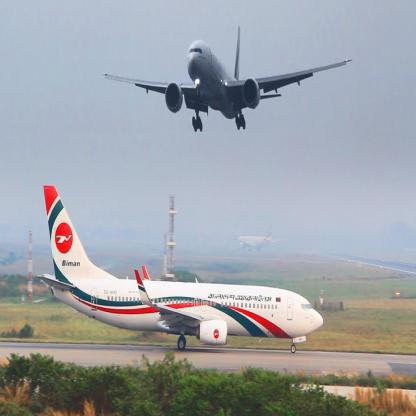CIV_Plane: (36, 182, 326, 364), (102, 25, 354, 146)
